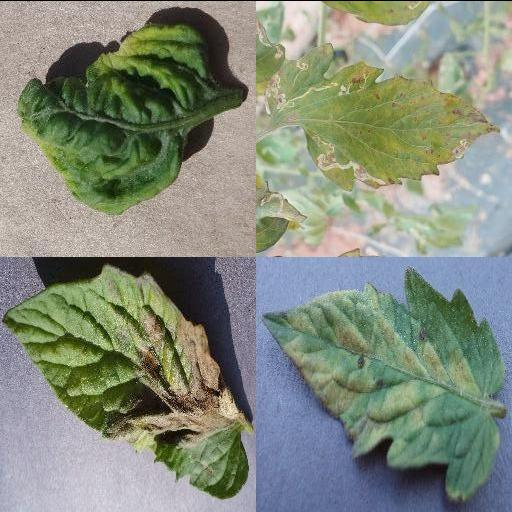Late Blight: (2, 264, 250, 500)
Leaf Miner: (263, 41, 502, 191)
Leaf Mold: (261, 264, 503, 499)
Yellow Leaf Curl Virus: (17, 20, 229, 211)
